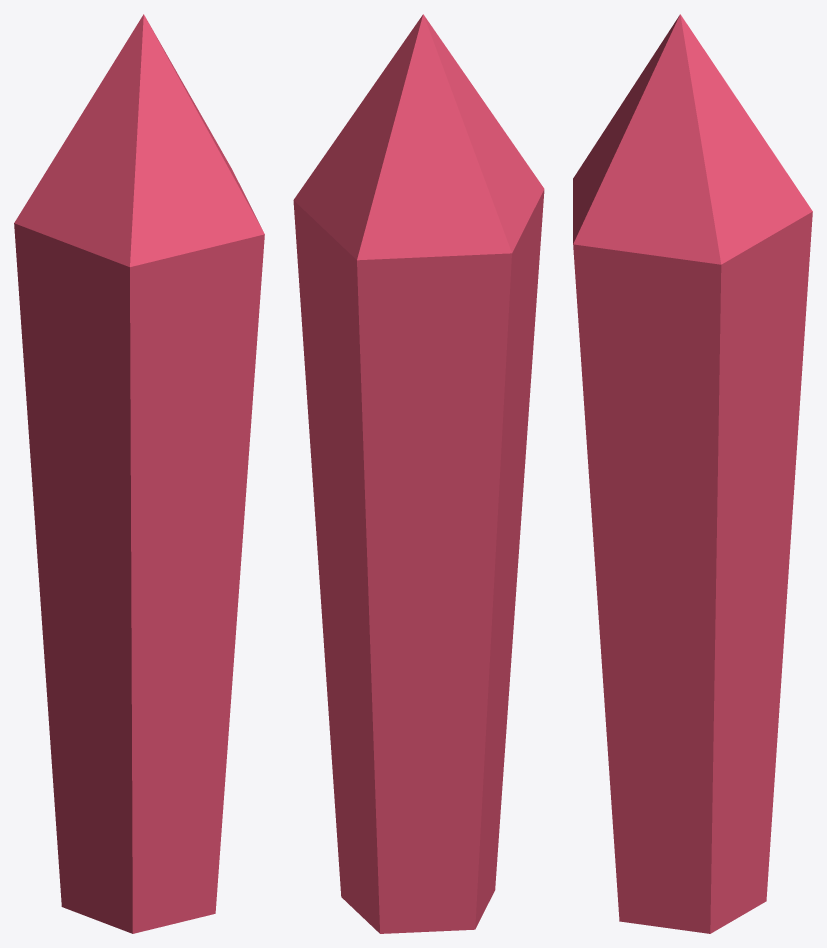
Rendered from Jem_38.fbx.
3 renders of one model, left to right at view 1: azimuth 30°, elevation 25°; view 2: azimuth 150°, elevation 25°; view 3: azimuth 270°, elevation 25°, orthographic.
Parts seen in each view (by area): view 1: Jem_38; view 2: Jem_38; view 3: Jem_38.
Boxes of the visible parts, x1,y1,x2,y2 form: Jem_38: [14, 14, 264, 933]; Jem_38: [293, 14, 544, 933]; Jem_38: [573, 14, 812, 933].
Bounding box in the file's own units: 19.02 × 73.87 × 18.09.
